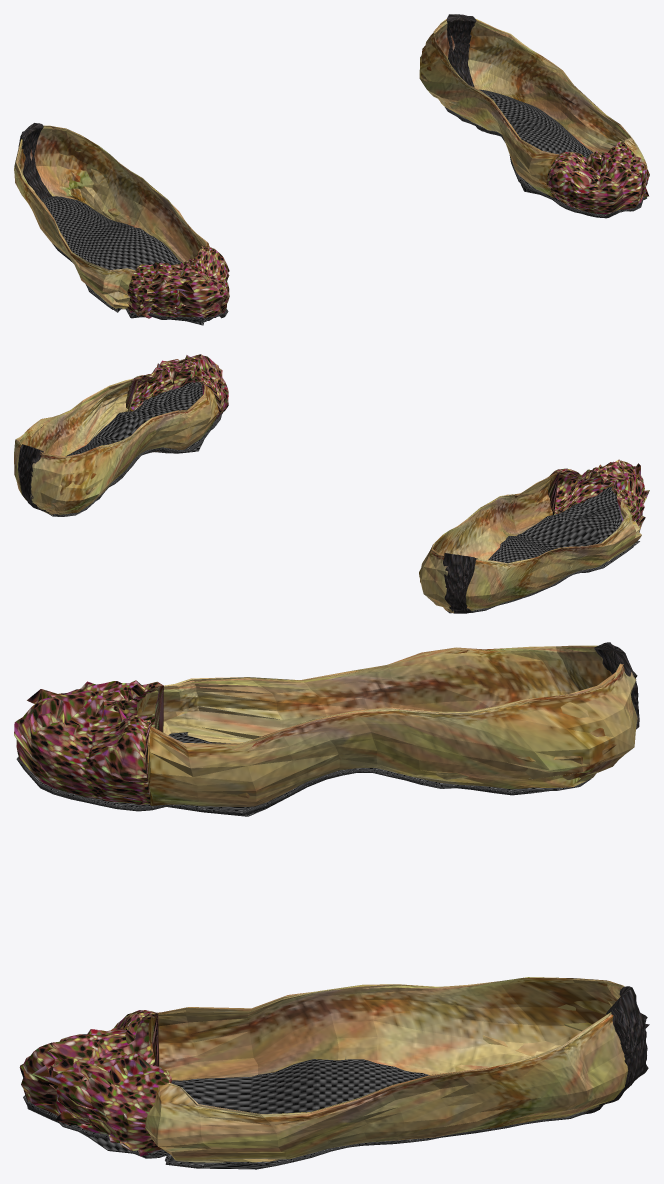
The model's file is mhw_elvs_flatshoe_plain1.glb.
The picture shows the model from 3 angles, top to bottom: view 1: azimuth 30°, elevation 25°; view 2: azimuth 150°, elevation 25°; view 3: azimuth 270°, elevation 25°; orthographic projection. The views are drawn at different scales.
Visible parts, largest first — view 1: mhw_elvs_flatshoe_plain1; view 2: mhw_elvs_flatshoe_plain1; view 3: mhw_elvs_flatshoe_plain1.
Boxes of the visible parts, box(x1,y1,x2,y2) form: mhw_elvs_flatshoe_plain1: box(14, 14, 649, 325); mhw_elvs_flatshoe_plain1: box(14, 354, 649, 613); mhw_elvs_flatshoe_plain1: box(14, 642, 649, 1169).
Size of the model in its own units: 0.5417 by 0.0846 by 0.3264.
1 material, 1 textured.
